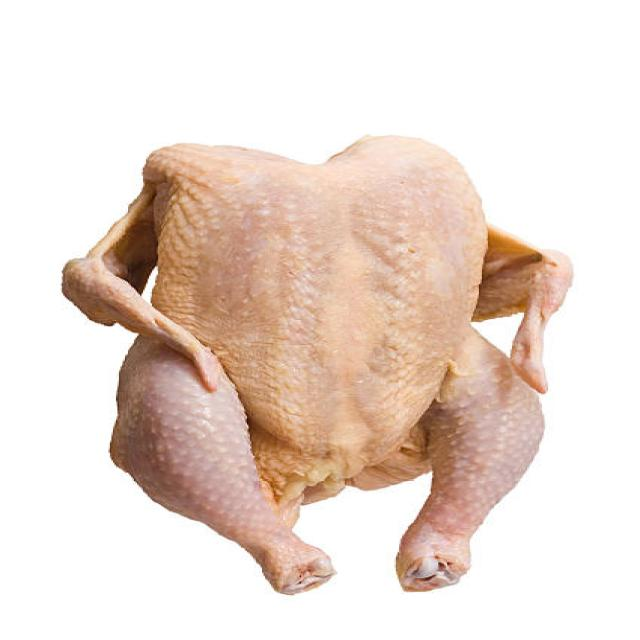Chicken: (44, 120, 593, 610)
